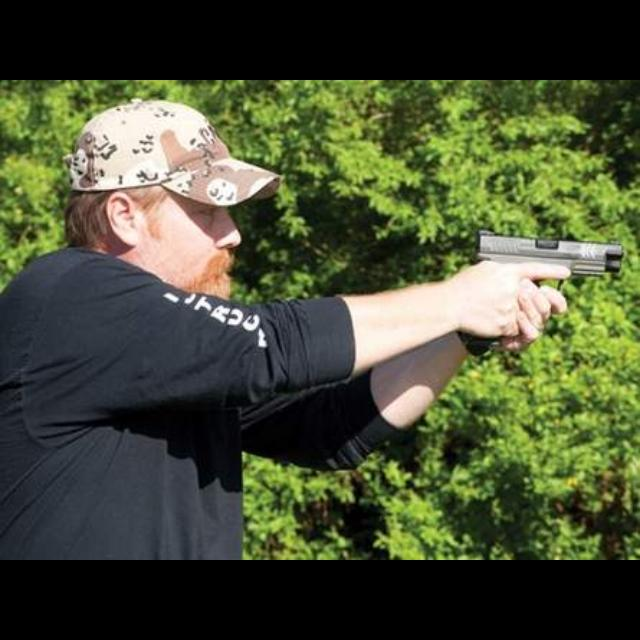handgun: (471, 226, 627, 294)
